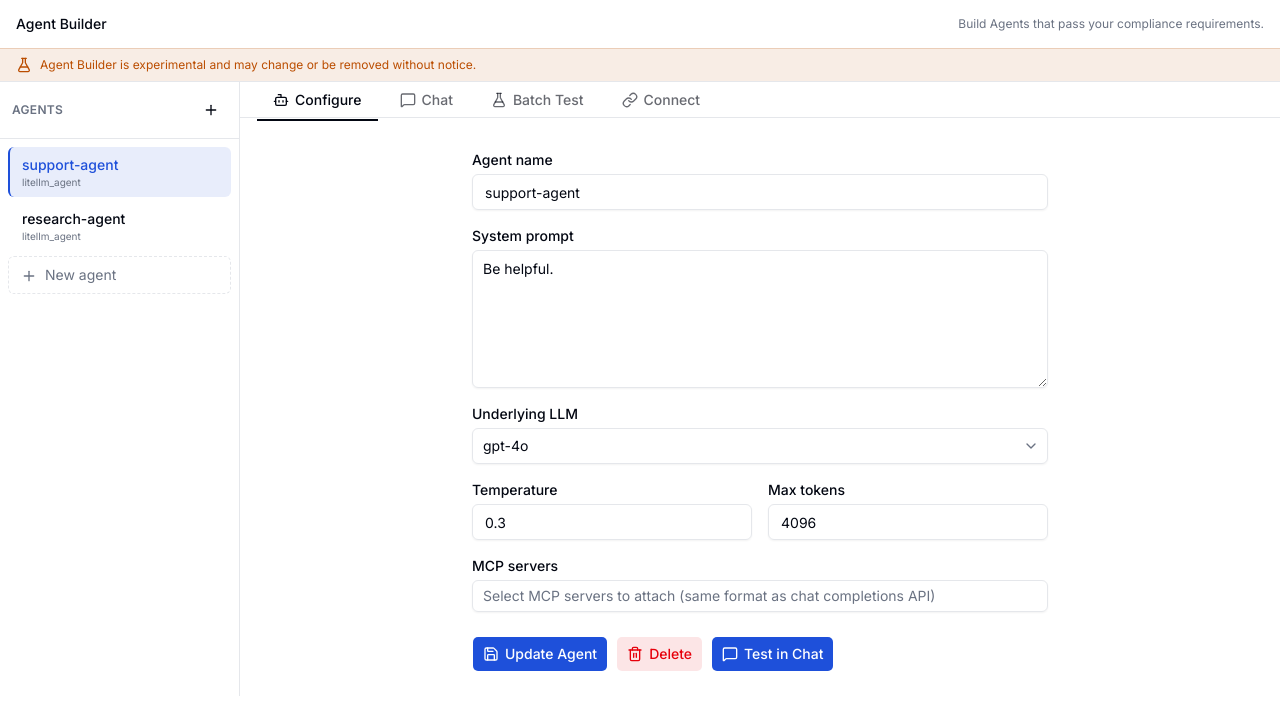
Test case: AgentBuilderView › abandons the delete when the warning is dismissed
Expected: the button "support-agent litellm_agent" is shown, [8,147,231,197]
Expected: the field showing "support-agent" is shown, [472,174,1048,210]
Click the button "Delete": (660, 654) [616,636,703,672]
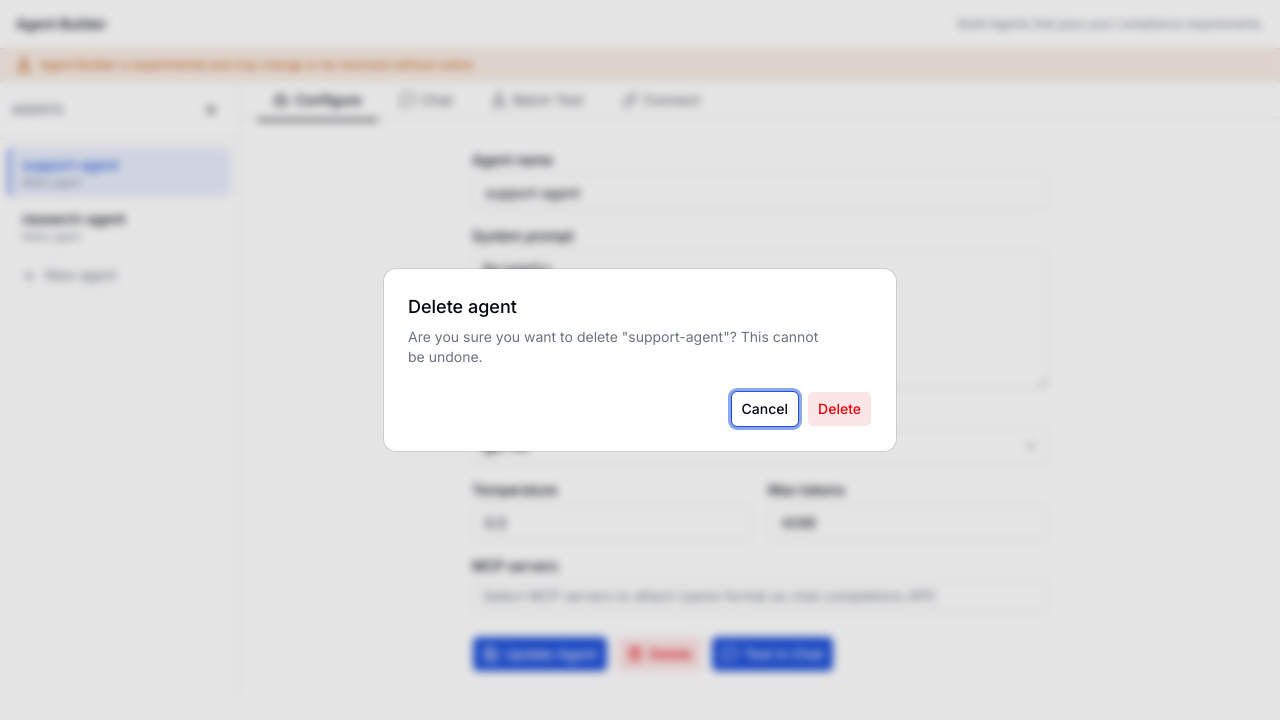
Now the text "Are you sure you want to delete \"support-agent\"" is shown, box [408,327,872,367]
Click the button "Cancel": (765, 409) [731,391,799,427]
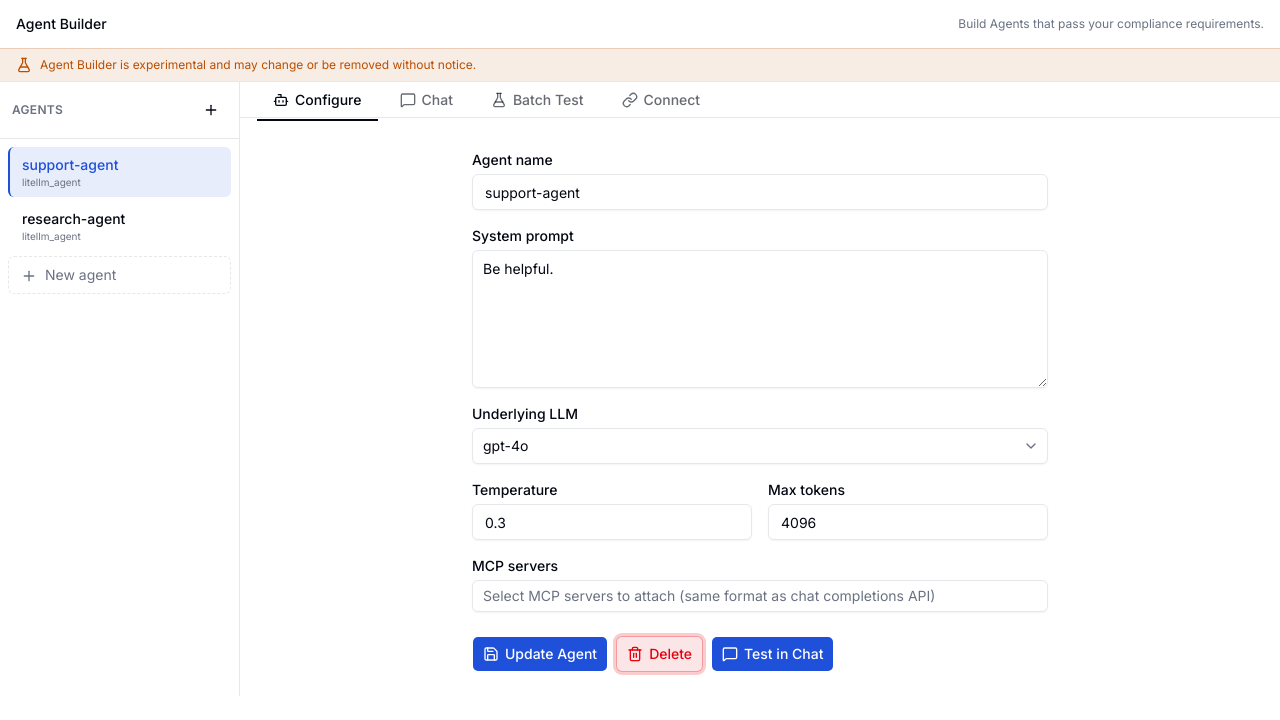
Now the text "Are you sure you want to delete \"support-agent\"" is gone
